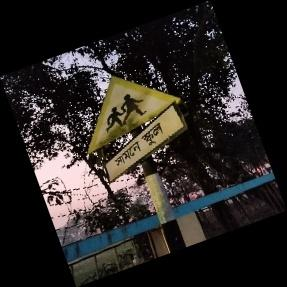School-in-front: (88, 75, 186, 183)
